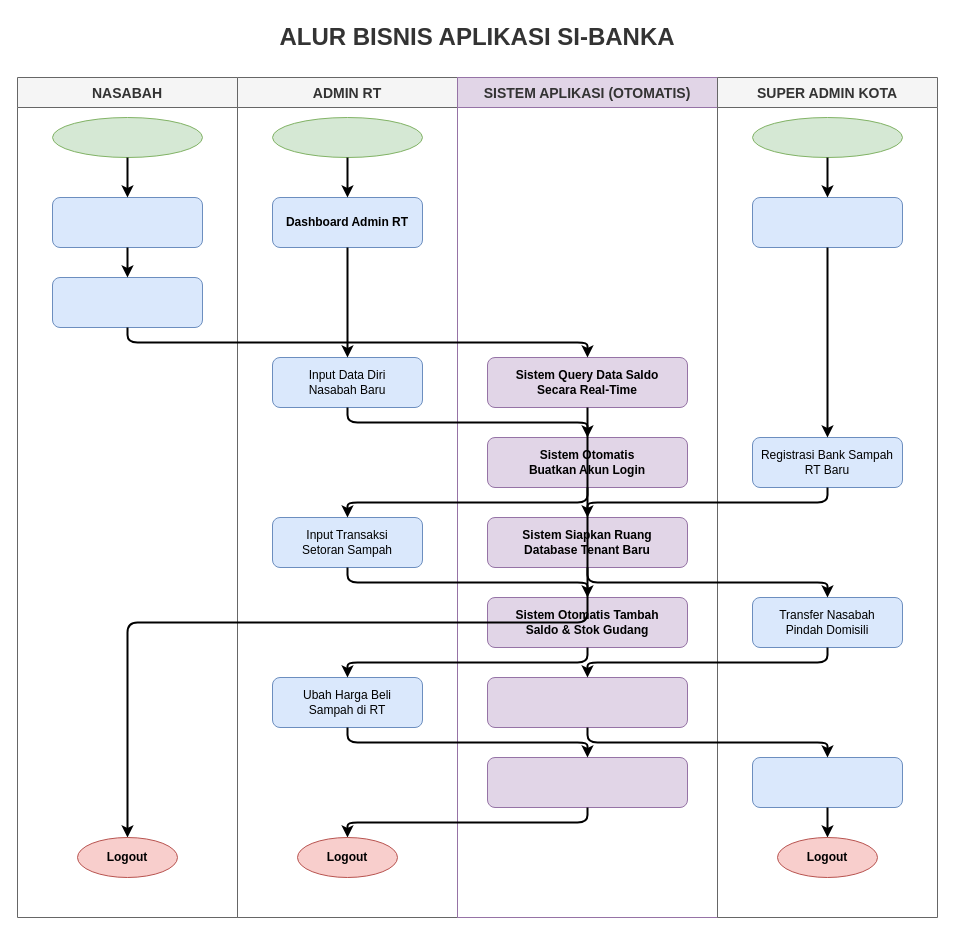
The diagram is 955 pixels wide and 935 high, and some of its shapes have lost their labels. Each missing label, with the centre of its shape:
Dashboard Nasabah: pixel 127 222
Dashboard Super Admin: pixel 827 222
Login Admin RT: pixel 347 137
Login Nasabah: pixel 127 137
Login Super Admin: pixel 827 137
Pantau Pergerakan Laporan Global: pixel 827 782
Pantau Saldo & Riwayat Tabungan: pixel 127 302
Sistem Auto-Clone Data (Harga Dasar Kota Aman): pixel 587 782
Sistem Mutasi Data Lintas Tenant: pixel 587 702
